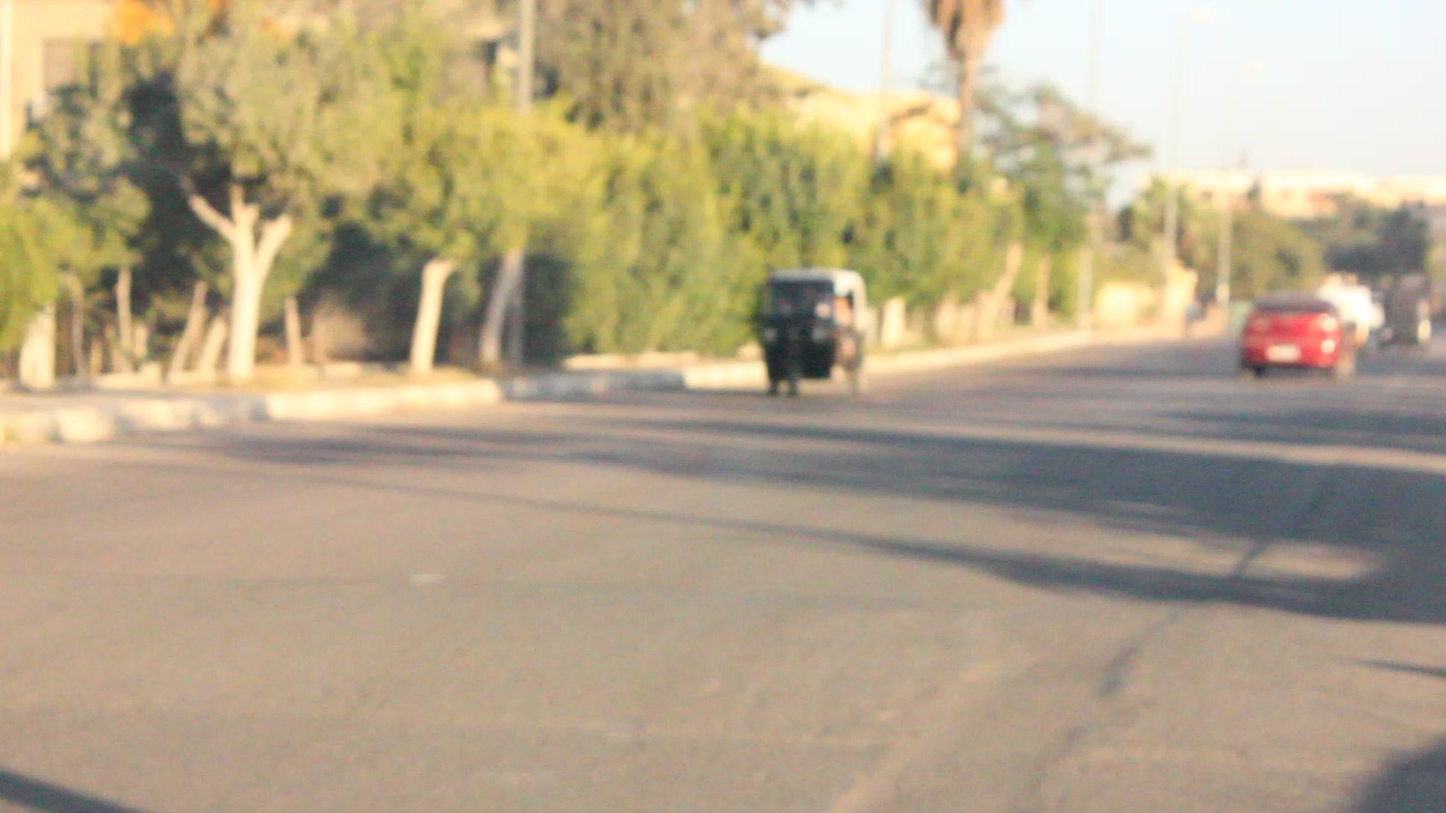Bump: (15, 570, 1438, 754)
Pothole: (877, 643, 1124, 812)
